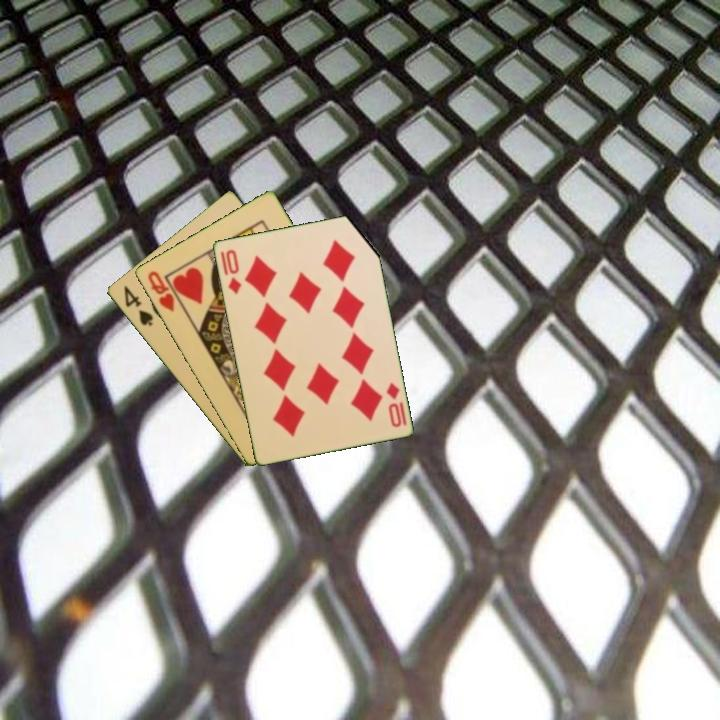10d: (217, 246, 244, 297), (382, 378, 404, 430)
4s: (120, 282, 156, 329)
Qh: (144, 267, 177, 315)
